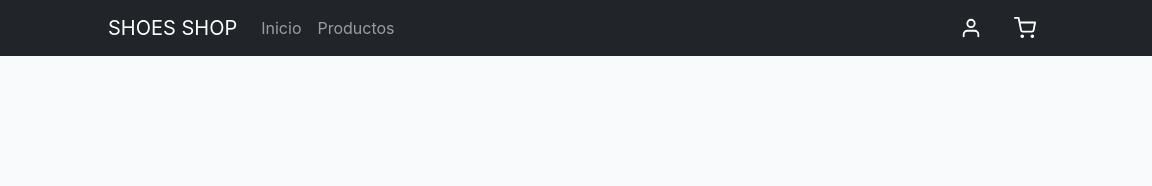
Test case: NavBar › debe mostrar las opciones de usuario al hacer clic en la cuenta
Step 1. Click the button named "Cuenta de usuario" → (971, 28), box [952,9,990,47]
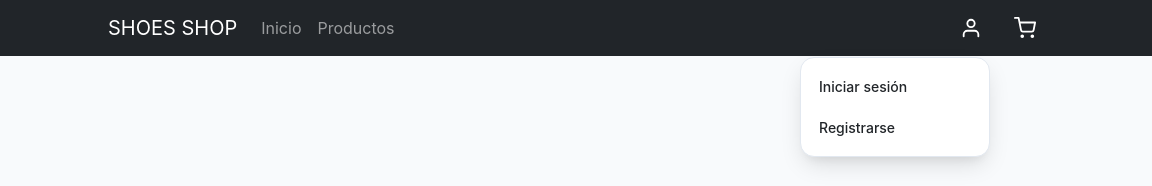
Now the text "Iniciar sesión" is shown, box [819,76,907,97]
Now the text "Registrarse" is shown, box [819,117,895,138]
